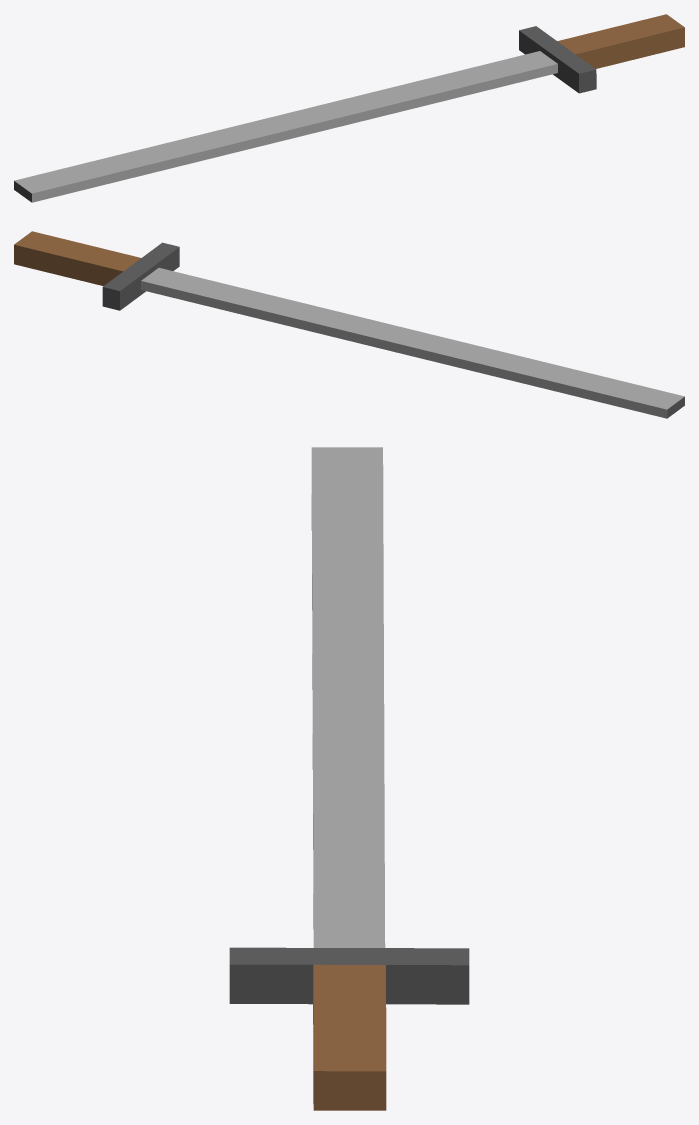
Rendered from Sword_mat.fbx.
3 views of the same model, one above another, from view 1: azimuth 30°, elevation 25°; view 2: azimuth 150°, elevation 25°; view 3: azimuth 270°, elevation 25° (orthographic). The views are drawn at different scales.
Visible parts, largest first — view 1: Sword_mat; view 2: Sword_mat; view 3: Sword_mat.
Boxes of the visible parts, left/top/right/bottom form: Sword_mat: left=14, top=14, right=684, bottom=202; Sword_mat: left=14, top=231, right=684, bottom=418; Sword_mat: left=229, top=447, right=469, bottom=1110.
Size of the model in its own units: 0.8648 by 0.0255 by 0.1377.
